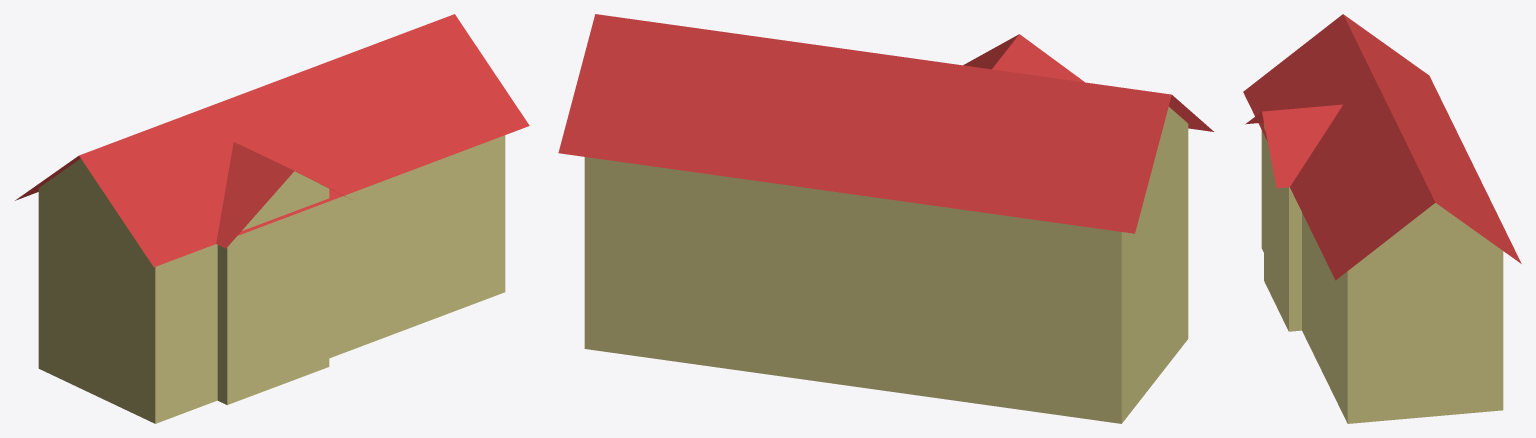
3 renders of one model, left to right at view 1: azimuth 30°, elevation 25°; view 2: azimuth 150°, elevation 25°; view 3: azimuth 270°, elevation 25°, orthographic. The views are drawn at different scales.
Bounding box in the file's own units: 23.21 × 13.34 × 11.63.
